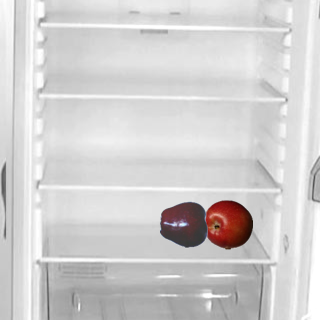Apple Braeburn: (202, 199, 252, 249)
Apple Red Delicious: (159, 199, 209, 249)
